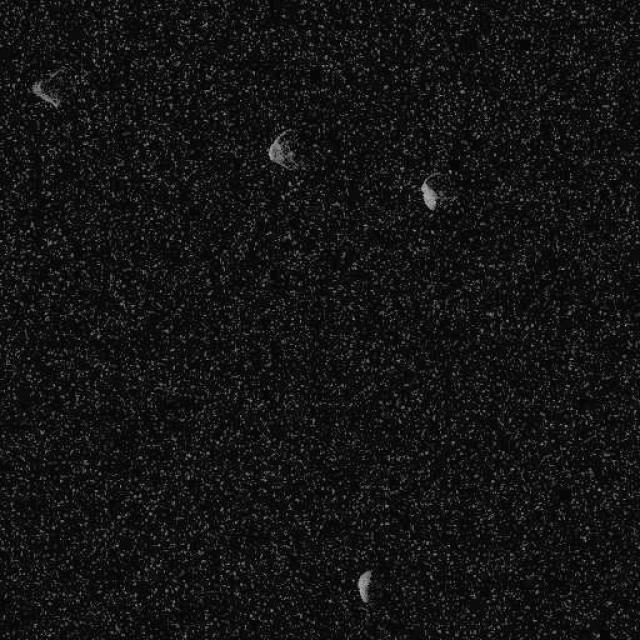D2: (29, 64, 66, 108), (266, 128, 302, 170), (420, 175, 439, 210), (357, 568, 372, 604)
